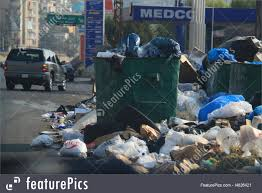garbage: (80, 129, 261, 173), (178, 92, 262, 174), (47, 110, 96, 158)
